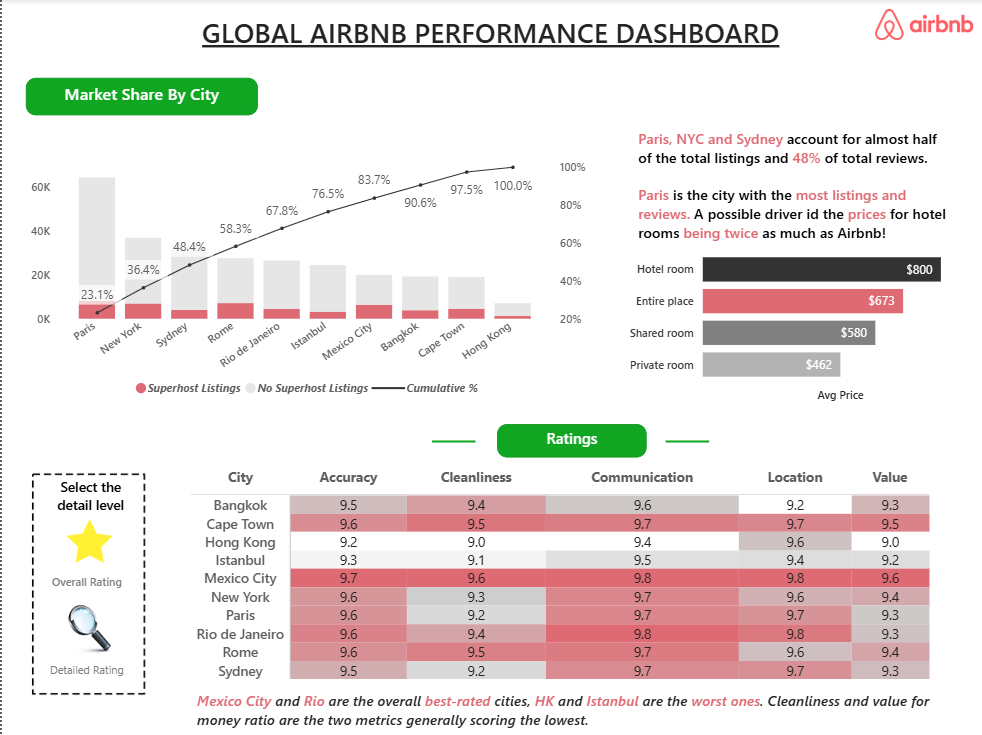

The page's visual inventory and layout, read from the dashboard file:
{"tool":"powerbi","page":{"name":"Ratings","canvas":[960,720],"ordinal":1},"visuals":[{"type":"textbox","box":[191.2,10,578.8,47.5],"z":0},{"type":"image","box":[51.4,506.3,68.5,47.7],"z":0,"group":"g1"},{"type":"image","box":[40.3,593.1,89.3,47.7],"z":0,"group":"g2"},{"type":"image","box":[843.8,10,116.2,30],"z":1000},{"type":"textbox","box":[36.7,555.2,92.9,29.3],"z":1000,"group":"g1"},{"type":"textbox","box":[29.3,640.8,107.6,37.9],"z":1000,"group":"g2"},{"type":"textbox","box":[23.2,77,227.4,36.7],"z":2000},{"type":"lineStackedColumnComboChart","fields":{"Category":["Listings.city"],"Y":["Listings.Superhost Listings","Listings.No Superhost Listings"],"Y2":["Listings.Cumulative %"]},"box":[23.2,149.2,553.9,249.5],"z":3000},{"type":"barChart","fields":{"Category":["Listings.room_type"],"Y":["Listings.Avg Price"]},"box":[607.5,227.5,352.5,171.2],"z":4000},{"type":"textbox","box":[617.5,122.5,317.5,120],"z":5000},{"type":"textbox","box":[484.2,415.8,146.7,33],"z":6000},{"type":"shape","box":[420.7,412.1,42.8,41.6],"z":7000},{"type":"shape","box":[649.3,412.1,42.8,41.6],"z":8000},{"type":"image","box":[0,424.3,170,295.9],"z":9000},{"type":"textbox","box":[36.7,463.5,100.3,51.4],"z":10000},{"type":"columnChart","fields":{"Category":["Listings.city"],"Y":["Listings.Avg Rating"]},"box":[179.8,463.5,755.7,215.2],"z":12000},{"type":"group","id":"g1","title":"Group 1","box":[36.7,506.3,92.9,78.3],"z":13000},{"type":"group","id":"g2","title":"Group 2","box":[29.3,593.1,107.6,85.6],"z":14000},{"type":"textbox","box":[185.9,671.3,749.6,48.9],"z":15000}]}

Visuals, with their boxes in screenshot pixels (x1, y1, x2, y2), scaled from the page's 960x720 canvas onto the 982x735 screenshot:
textbox: 196, 10, 788, 59
image: 53, 517, 123, 566
image: 41, 605, 133, 654
image: 863, 10, 981, 41
textbox: 38, 567, 133, 597
textbox: 30, 654, 140, 693
textbox: 24, 79, 256, 116
lineStackedColumnComboChart - Listings.city x Listings.Superhost Listings: 24, 152, 590, 407
barChart - Listings.room_type x Listings.Avg Price: 621, 232, 981, 407
textbox: 632, 125, 956, 248
textbox: 495, 424, 645, 458
shape: 430, 421, 474, 463
shape: 664, 421, 708, 463
image: 0, 433, 174, 734
textbox: 38, 473, 140, 526
columnChart - Listings.city x Listings.Avg Rating: 184, 473, 957, 693
"Group 1" group: 38, 517, 133, 597
"Group 2" group: 30, 605, 140, 693
textbox: 190, 685, 957, 734
